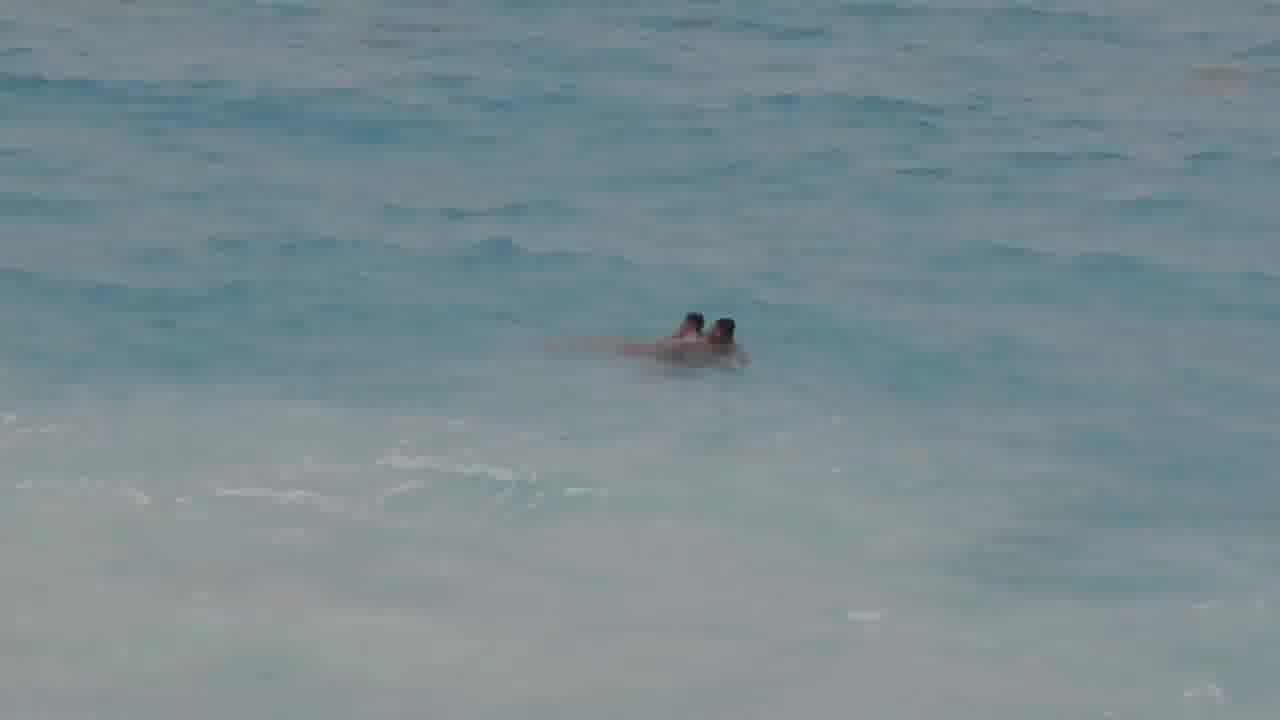swimmer: (669, 307, 714, 341), (716, 307, 734, 353)
